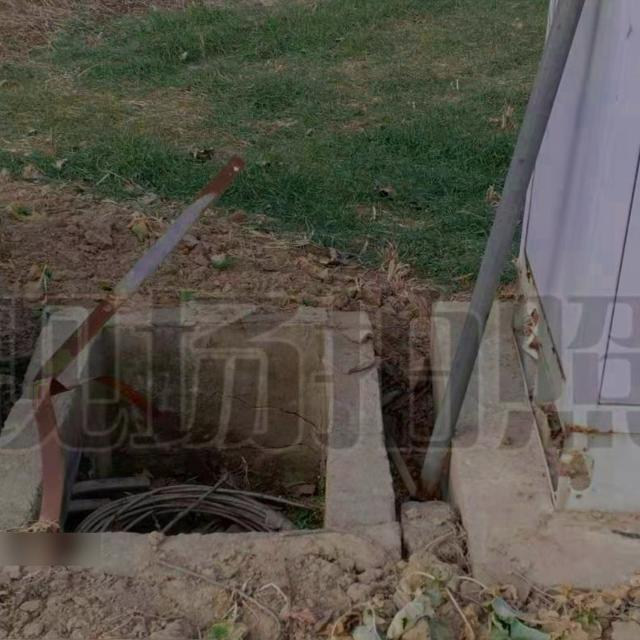lose: (26, 305, 332, 535)
